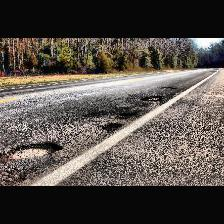pothole: (8, 142, 62, 160), (102, 122, 122, 132), (141, 96, 163, 102), (118, 113, 136, 119), (160, 86, 176, 90)
